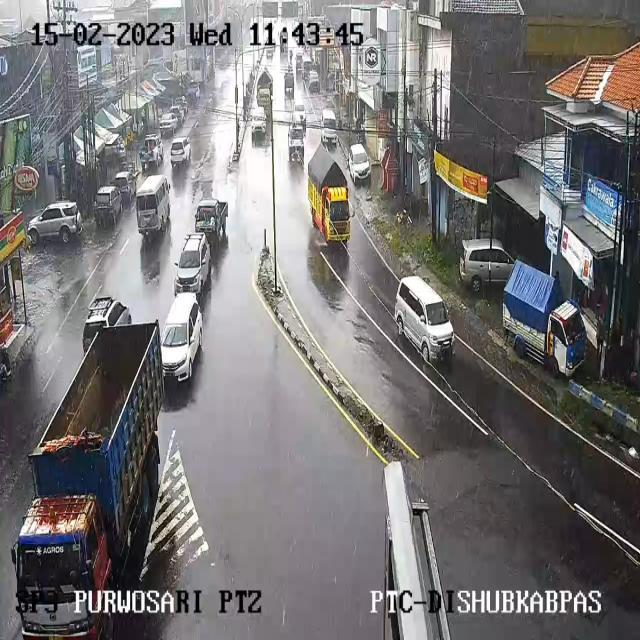Bus: (135, 174, 171, 234)
Car: (388, 276, 459, 366), (159, 295, 203, 381), (456, 239, 512, 294), (82, 296, 133, 353), (28, 200, 84, 244), (174, 232, 212, 294), (194, 198, 229, 245), (92, 186, 123, 228), (347, 143, 371, 183), (112, 170, 136, 203), (142, 134, 164, 167), (288, 125, 306, 163), (170, 136, 192, 166), (321, 111, 338, 143), (250, 110, 268, 136), (159, 112, 179, 134), (169, 105, 186, 126), (306, 71, 320, 92), (301, 51, 313, 75), (293, 103, 306, 125), (284, 72, 294, 94), (295, 54, 304, 72), (265, 46, 274, 60)
Truck: (14, 321, 164, 628), (503, 264, 586, 378), (308, 148, 350, 249), (256, 68, 273, 108)
